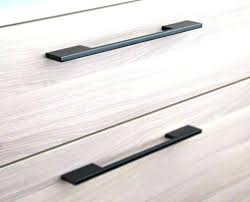cabinet door: (12, 22, 248, 126), (21, 128, 250, 201)
handle: (62, 128, 201, 185), (46, 24, 205, 61)
